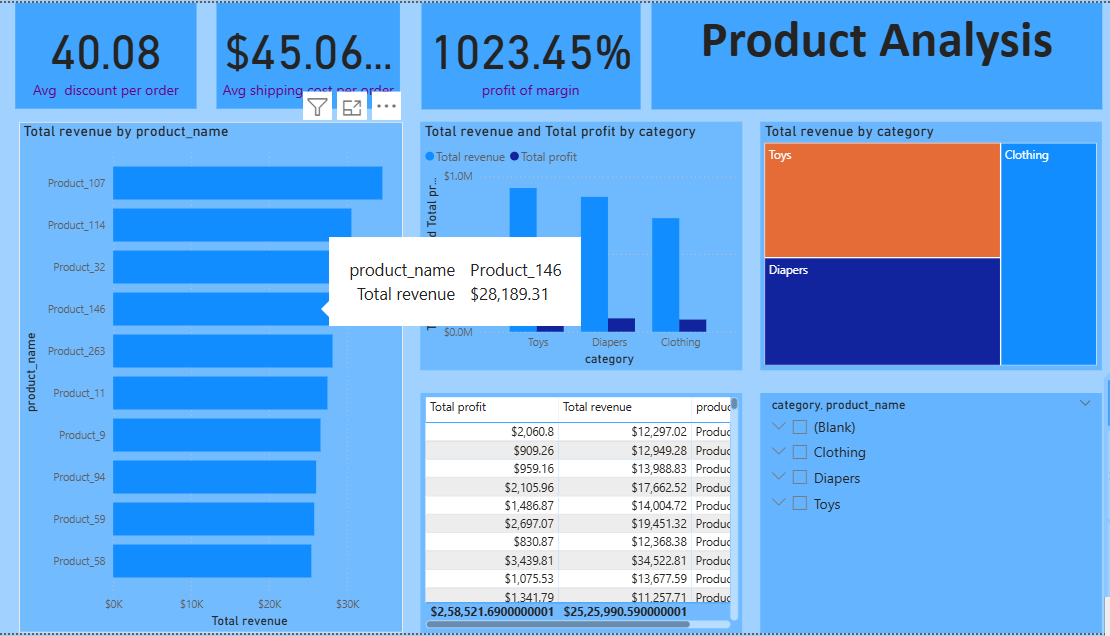

The dashboard page shown, as its layout file describes it:
{"tool":"powerbi","page":{"name":"Page 2","canvas":[1280,720],"ordinal":1},"visuals":[{"type":"card","fields":{"Values":["Factsales.Avg  discount per order"]},"box":[19.2,0,207.2,120.8],"z":0},{"type":"card","fields":{"Values":["Factsales.Avg shipping cost per order"]},"box":[248.4,0,209.9,120.8],"z":1000},{"type":"clusteredBarChart","fields":{"Y":["Factsales.Total revenue"],"Category":["Dim product.product_name"]},"box":[22.5,136.2,438.8,583.8],"z":2000},{"type":"lineClusteredColumnComboChart","fields":{"Category":["Dim product.category"],"Y":["Factsales.Total revenue","Factsales.Total profit"]},"box":[481.8,135.7,368.1,283.7],"z":4000},{"type":"tableEx","fields":{"Values":["Factsales.Total profit","Factsales.Total revenue","Dim product.product_name"]},"box":[482,446,368,274],"z":5000},{"type":"slicer","fields":{"Values":["Dim product.category","Dim product.product_name"]},"box":[870,446,390,274],"z":6000},{"type":"treemap","fields":{"Group":["Dim product.category"],"Values":["Factsales.Total revenue"]},"box":[870,136.2,390,283.8],"z":7000},{"type":"card","fields":{"Values":["Factsales.profit of margin"]},"box":[482.5,0,250,121.2],"z":8000},{"type":"textbox","box":[745,0,515,121.2],"z":9000}]}

Visuals, with their boxes in screenshot pixels (x1, y1, x2, y2), scaled from the page's 1280x720 canvas onto the 1110x636 screenshot:
card - Factsales.Avg  discount per order: locate(17, 0, 196, 107)
card - Factsales.Avg shipping cost per order: locate(215, 0, 397, 107)
clusteredBarChart - Factsales.Total revenue x Dim product.product_name: locate(20, 120, 400, 635)
lineClusteredColumnComboChart - Dim product.category x Factsales.Total revenue: locate(418, 120, 737, 370)
tableEx - Factsales.Total profit x Factsales.Total revenue: locate(418, 394, 737, 635)
slicer - Dim product.category x Dim product.product_name: locate(754, 394, 1093, 635)
treemap - Dim product.category x Factsales.Total revenue: locate(754, 120, 1093, 371)
card - Factsales.profit of margin: locate(418, 0, 635, 107)
textbox: locate(646, 0, 1093, 107)
